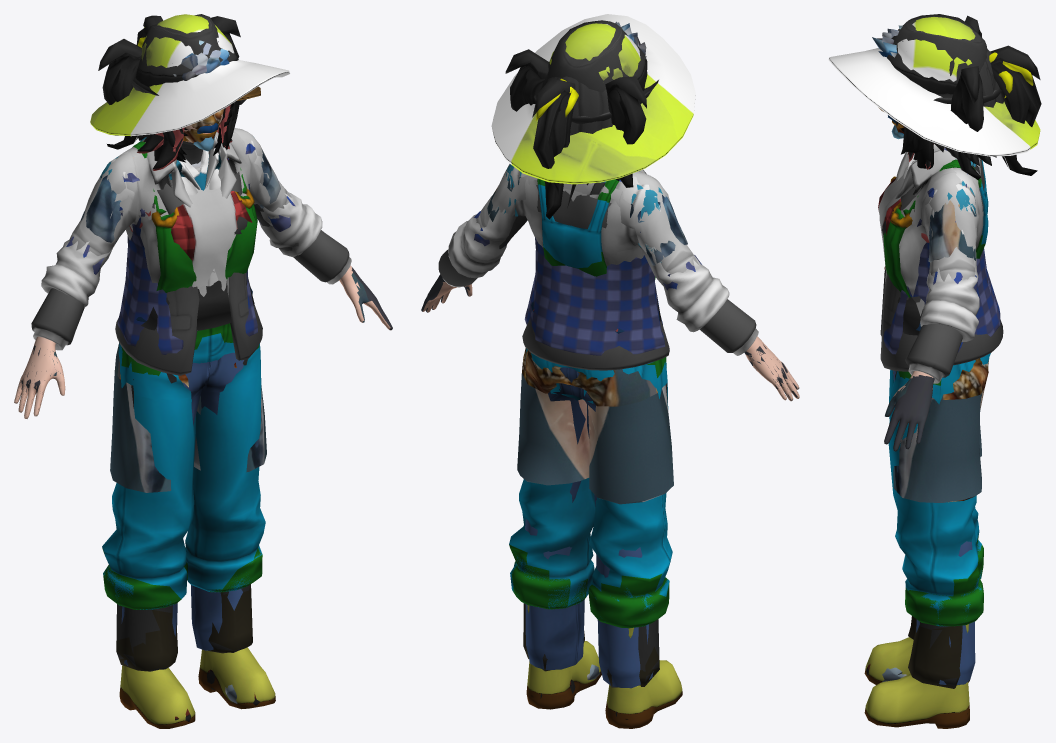
Rendered from ASDASDAS.fbx.
3 renders of one model, left to right at view 1: azimuth 30°, elevation 25°; view 2: azimuth 150°, elevation 25°; view 3: azimuth 270°, elevation 25°, orthographic.
Visible parts, largest first — view 1: Overall_Overall, Overall_Overall.001, Top_OpenJacket, BSMC_Outfit_Hat_SunHat.001, Top_Suspenders, Feet_BigBoots, Bottom_BigShorts, Top_ButtonUpShort, Top_ButtonUpShort.001, Bottom_DressPants.003, Bottom_LooseJeans, char17 (+8 smaller); view 2: Overall_Overall, Bottom_BigShorts, BSMC_Outfit_Hat_SunHat.001, Top_ButtonUpShort, Overall_Overall.001, Bottom_LooseJeans, Top_OpenJacket, Feet_BigBoots, Top_Suspenders, HairBack_TwinTailLong, BSMC_Outfit_Hat_Fedora, BSMC_Outfit_HairBack_PonyTailLong (+7 smaller); view 3: BSMC_Outfit_Hat_SunHat.001, Overall_Overall, Overall_Overall.001, Bottom_BigShorts, Feet_BigBoots, Top_OpenJacket, Top_Suspenders, BSMC_Outfit_Hat_Fedora, Top_ButtonUpShort, Bottom_DressPants.003, BSMC_Outfit_HairBack_PonyTailLong, feet.002 (+9 smaller).
Part boxes in pixels (x1,y1,x2,y2): Overall_Overall: (41, 192, 320, 609); Overall_Overall.001: (42, 135, 322, 609); Top_OpenJacket: (31, 150, 351, 375); BSMC_Outfit_Hat_SunHat.001: (90, 14, 289, 136); Top_Suspenders: (69, 128, 291, 296); Feet_BigBoots: (119, 647, 275, 728); Bottom_BigShorts: (110, 342, 266, 492); Top_ButtonUpShort: (66, 143, 295, 354); Top_ButtonUpShort.001: (170, 158, 252, 288); Bottom_DressPants.003: (116, 585, 252, 671); Bottom_LooseJeans: (121, 352, 244, 665); char17: (14, 140, 390, 418); Overall_Overall: (449, 184, 729, 626); Bottom_BigShorts: (517, 348, 673, 504); BSMC_Outfit_Hat_SunHat.001: (491, 14, 695, 184); Top_ButtonUpShort: (473, 180, 701, 355); Overall_Overall.001: (448, 167, 707, 628); Bottom_LooseJeans: (525, 367, 653, 688); Top_OpenJacket: (438, 185, 758, 370); Feet_BigBoots: (526, 605, 682, 728); Top_Suspenders: (476, 164, 698, 274); HairBack_TwinTailLong: (505, 49, 646, 187); BSMC_Outfit_Hat_Fedora: (534, 20, 658, 123); BSMC_Outfit_HairBack_PonyTailLong: (532, 78, 576, 219); BSMC_Outfit_Hat_SunHat.001: (828, 17, 1040, 156); Overall_Overall: (888, 160, 990, 626); Overall_Overall.001: (883, 144, 985, 626); Bottom_BigShorts: (893, 358, 989, 502); Feet_BigBoots: (864, 624, 969, 728); Top_OpenJacket: (880, 159, 1003, 383); Top_Suspenders: (885, 149, 979, 315); BSMC_Outfit_Hat_Fedora: (887, 14, 1001, 103); Top_ButtonUpShort: (883, 148, 1000, 354); Bottom_DressPants.003: (908, 616, 962, 688); BSMC_Outfit_HairBack_PonyTailLong: (990, 45, 1041, 175); feet.002: (884, 375, 934, 451).
Size of the model in its own units: 205 by 361 by 102.
